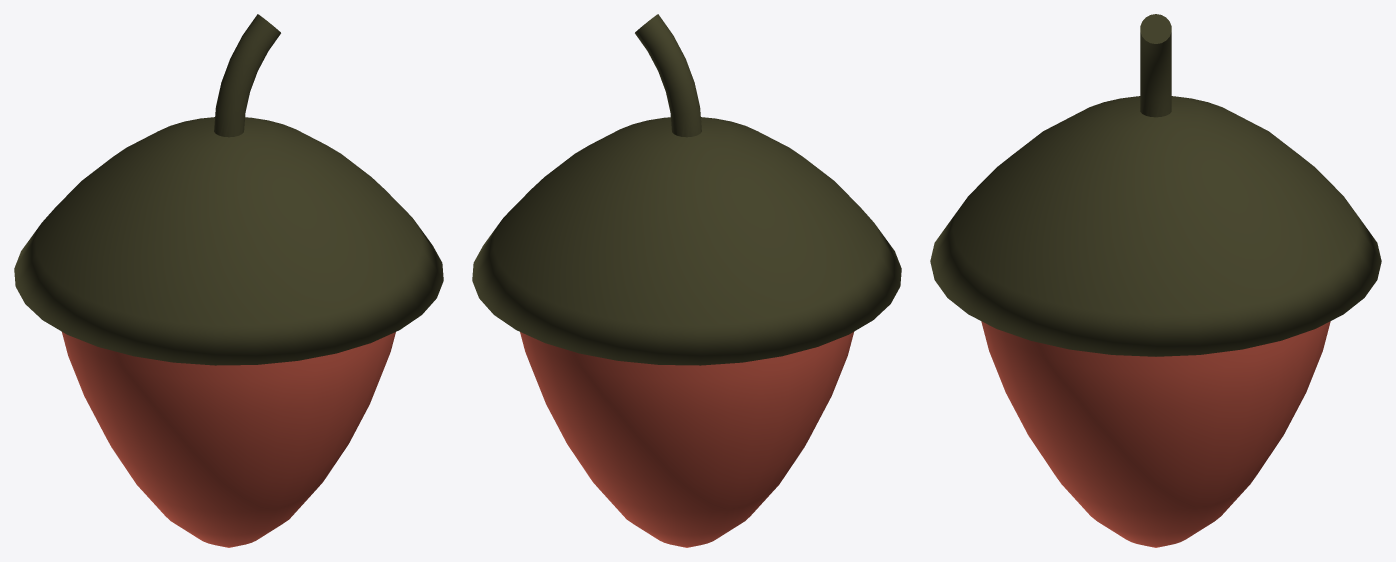
File: Nut.FBX
3 renders of one model, left to right at view 1: azimuth 30°, elevation 25°; view 2: azimuth 150°, elevation 25°; view 3: azimuth 270°, elevation 25°, orthographic. The views are drawn at different scales.
Visible parts, largest first — view 1: Object, Sphere001; view 2: Object, Sphere001; view 3: Object, Sphere001.
Part boxes in pixels (x1=…): Object: x1=14, y1=14, x2=443, y2=365; Sphere001: x1=62, y1=332, x2=395, y2=547; Object: x1=472, y1=14, x2=901, y2=365; Sphere001: x1=520, y1=332, x2=853, y2=547; Object: x1=930, y1=14, x2=1381, y2=356; Sphere001: x1=981, y1=321, x2=1330, y2=547.
Size of the model in its own units: 76.08 by 102 by 76.08.
